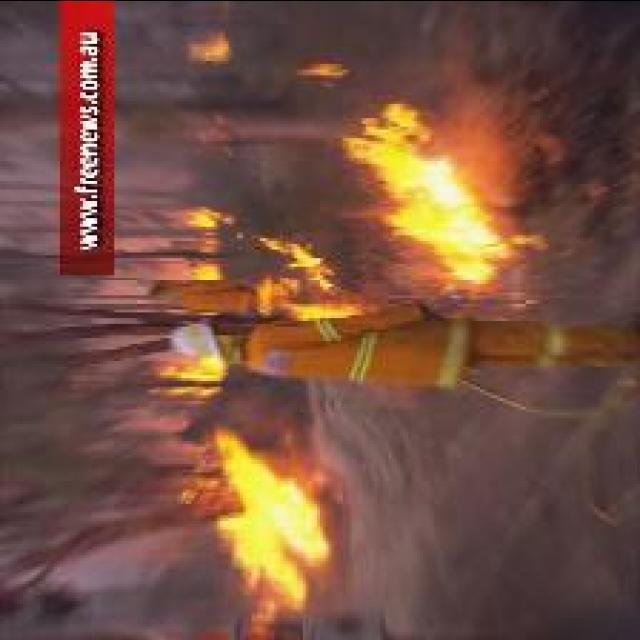Fire: (342, 97, 508, 283), (208, 422, 332, 608), (252, 233, 372, 321), (147, 352, 230, 398), (187, 31, 230, 63), (296, 60, 348, 80), (186, 207, 220, 224), (192, 263, 220, 280)
